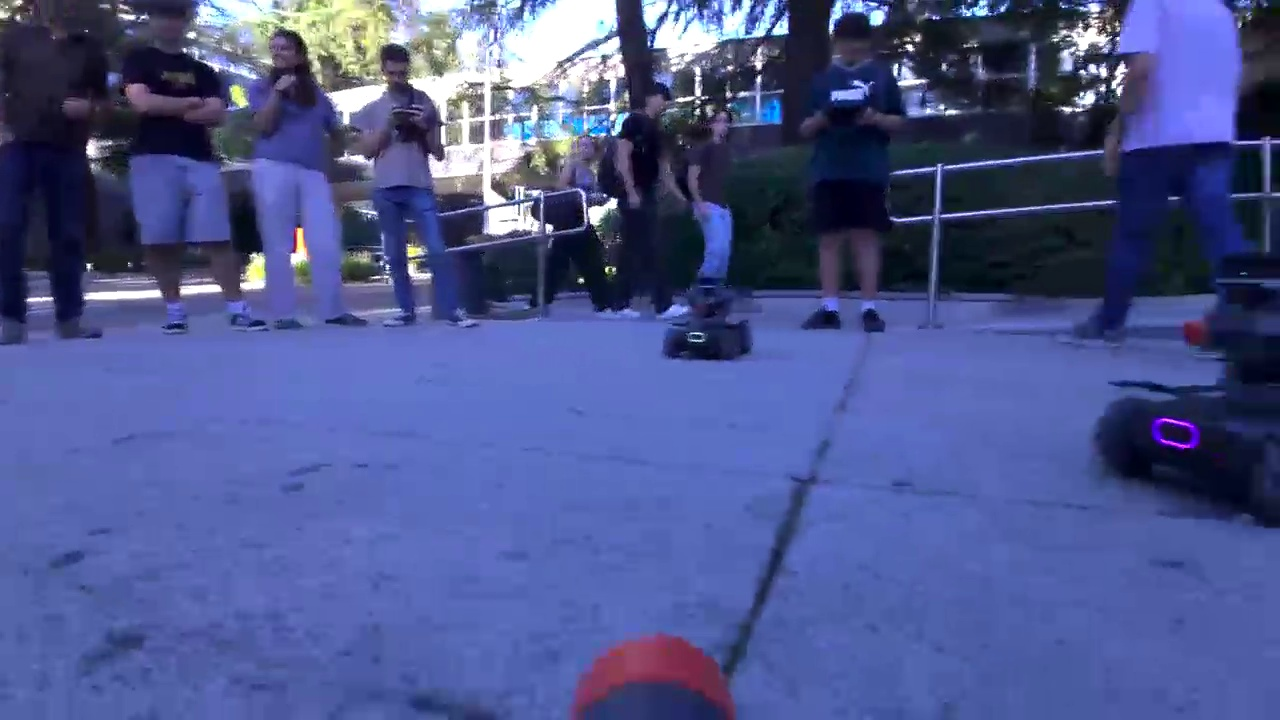robot: (1080, 273, 1280, 516), (661, 273, 754, 356)
